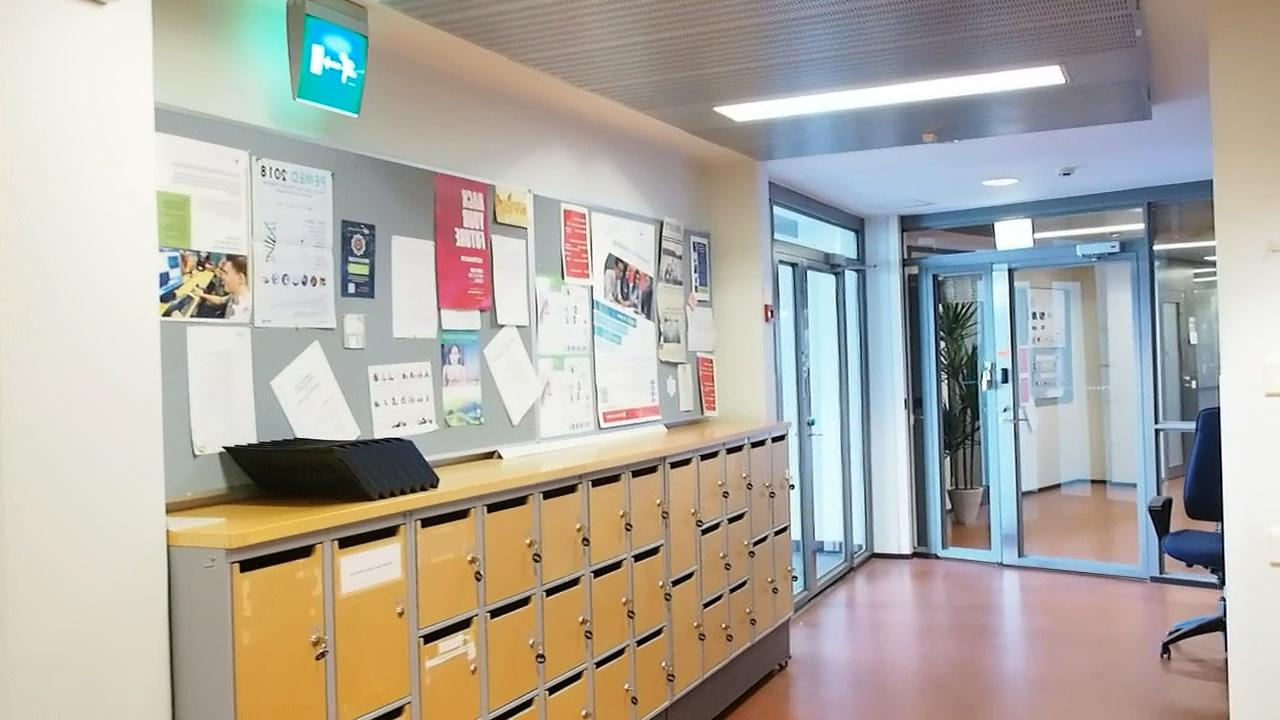exit: (289, 18, 364, 110)
